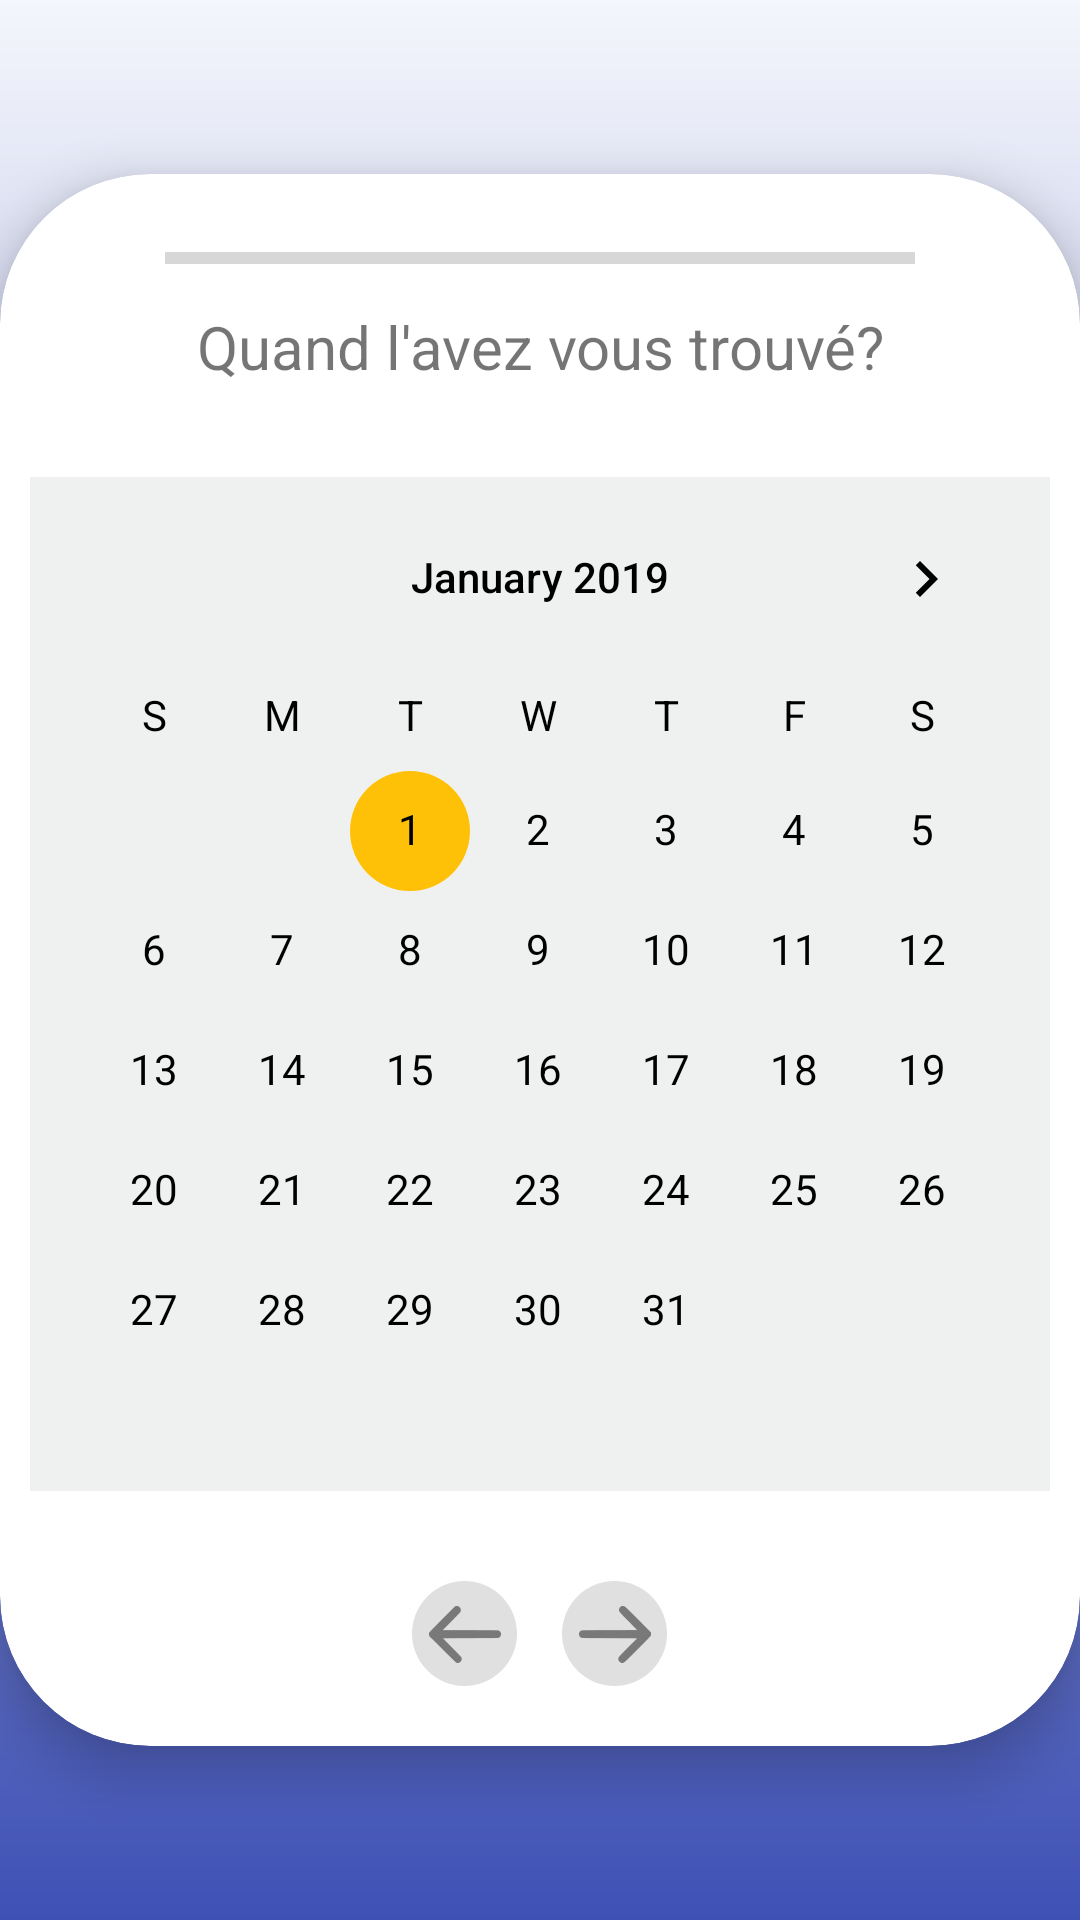

Where to tap for icons on this 1080px x 1920px app screen, as (x=x, y=y):
arrows left: (x=464, y=1633)
arrows right: (x=614, y=1633)
